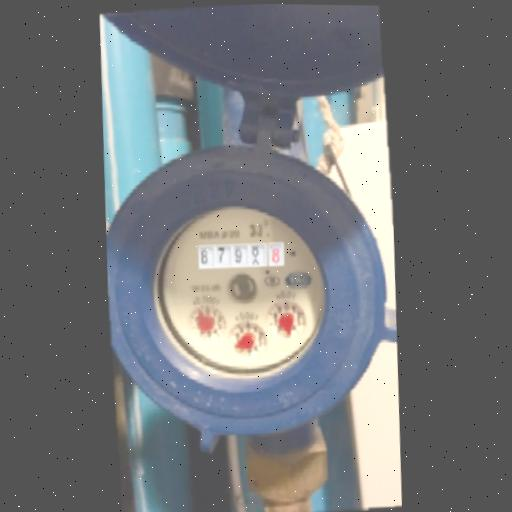7: (217, 246, 230, 265)
8: (200, 248, 213, 267), (252, 246, 265, 265), (269, 245, 282, 264)
9: (235, 247, 248, 266)
border_water_meter_number: (198, 241, 285, 269)
